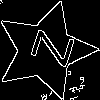Z: (20, 25, 75, 68)
